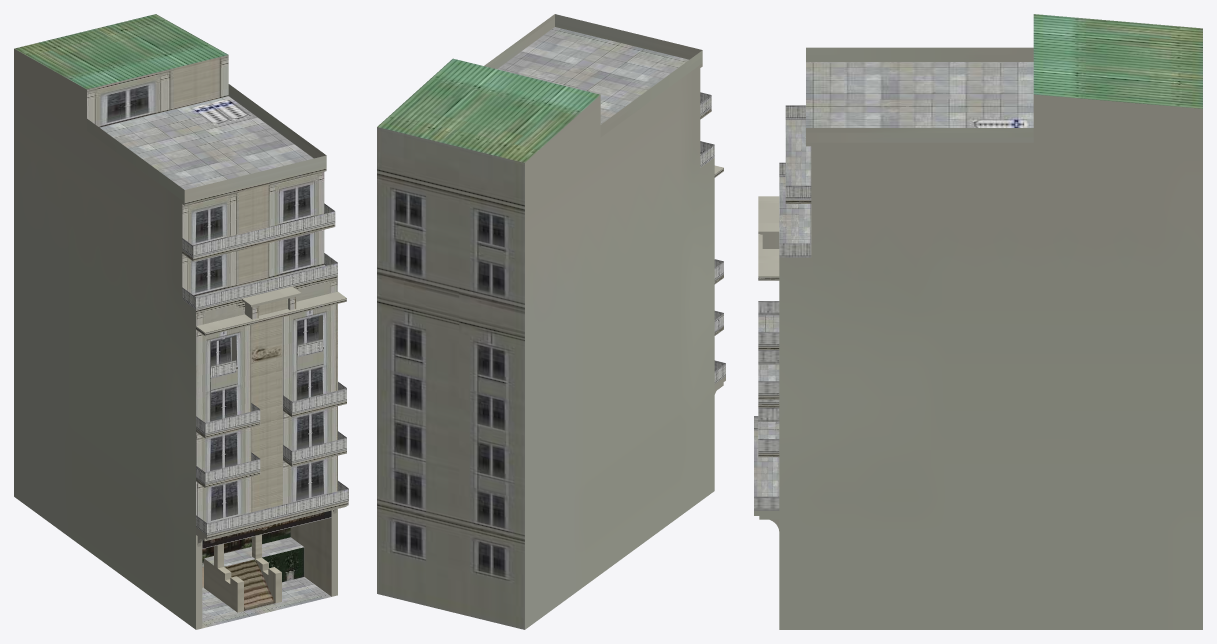
3 renders of one model, left to right at view 1: azimuth 30°, elevation 25°; view 2: azimuth 150°, elevation 25°; view 3: azimuth 270°, elevation 25°, orthographic. The views are drawn at different scales.
Parts seen in each view (by area): view 1: HN069___L__Heritage_Hotel_Hanoi; view 2: HN069___L__Heritage_Hotel_Hanoi; view 3: HN069___L__Heritage_Hotel_Hanoi.
Part boxes in pixels (left/top/right/bottom): HN069___L__Heritage_Hotel_Hanoi: left=14, top=14, right=348, bottom=629; HN069___L__Heritage_Hotel_Hanoi: left=377, top=14, right=725, bottom=629; HN069___L__Heritage_Hotel_Hanoi: left=754, top=14, right=1202, bottom=629.
Size of the model in its own units: 9 by 27.9 by 21.2.
Materials: 1 (1 with a texture image).
